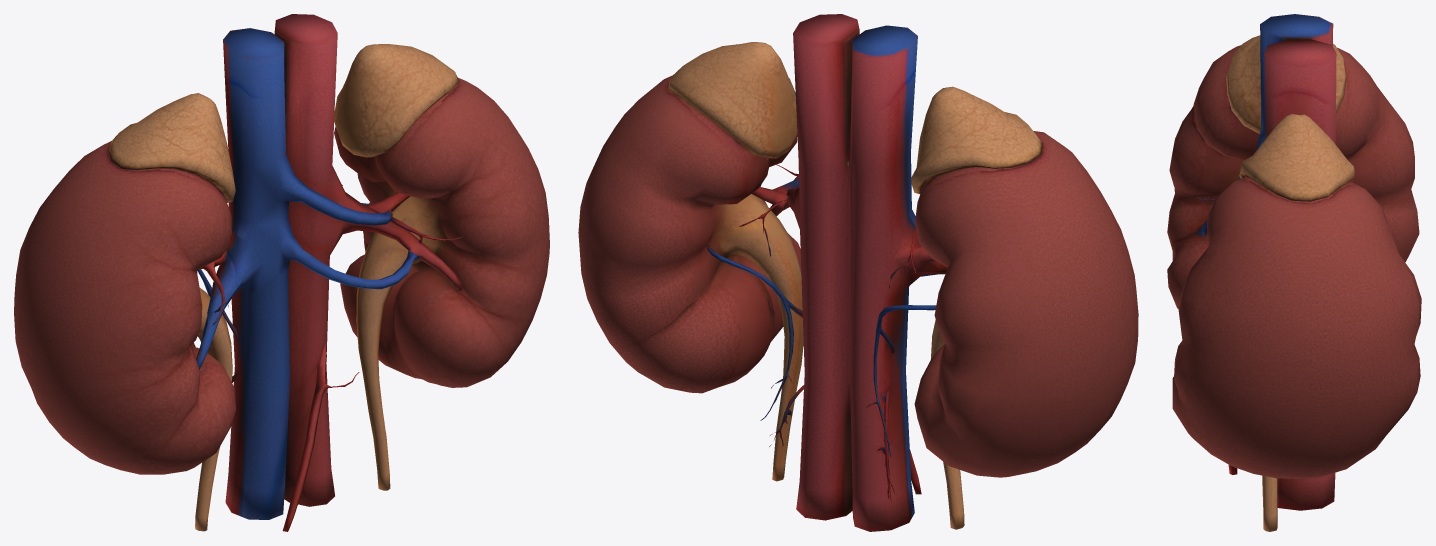
File: kidney-realistic.glb
3 renders of one model, left to right at view 1: azimuth 30°, elevation 25°; view 2: azimuth 150°, elevation 25°; view 3: azimuth 270°, elevation 25°, orthographic. The views are drawn at different scales.
Visible parts, largest first — view 1: tripo_node_db1c1df0-a310-4c19-b962-7eb230d6d8b1; view 2: tripo_node_db1c1df0-a310-4c19-b962-7eb230d6d8b1; view 3: tripo_node_db1c1df0-a310-4c19-b962-7eb230d6d8b1.
Boxes of the visible parts, x1,y1,x2,y2 form: tripo_node_db1c1df0-a310-4c19-b962-7eb230d6d8b1: [14, 14, 549, 531]; tripo_node_db1c1df0-a310-4c19-b962-7eb230d6d8b1: [578, 14, 1138, 531]; tripo_node_db1c1df0-a310-4c19-b962-7eb230d6d8b1: [1167, 14, 1421, 531].
Bounding box in the file's own units: 0.998 × 0.8847 × 0.4551.
Materials: 1 (1 with a texture image).
